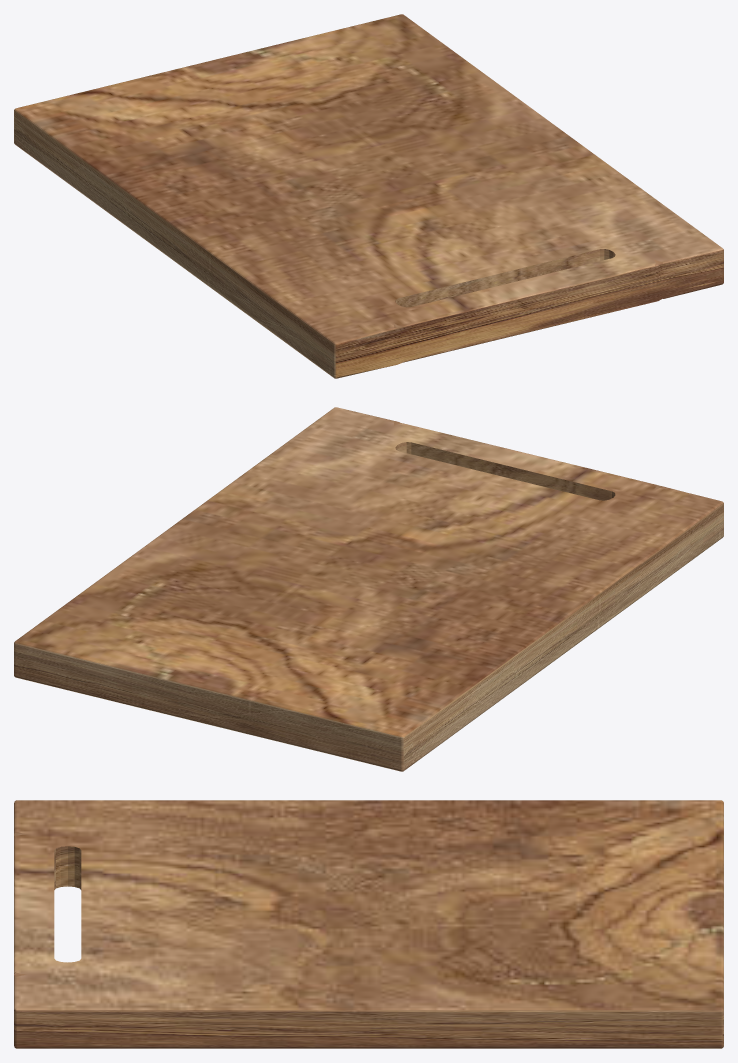
The model's file is cutting_board.fbx.
The picture shows the model from 3 angles, top to bottom: view 1: azimuth 30°, elevation 25°; view 2: azimuth 150°, elevation 25°; view 3: azimuth 270°, elevation 25°; orthographic projection. The views are drawn at different scales.
Parts seen in each view (by area): view 1: Wooden Cutting Board; view 2: Wooden Cutting Board; view 3: Wooden Cutting Board.
Part boxes in pixels (<box>): Wooden Cutting Board: <box>14,14,723,378</box>; Wooden Cutting Board: <box>14,407,723,771</box>; Wooden Cutting Board: <box>14,800,723,1048</box>.
Bounding box in the file's own units: 56 × 5 × 80.01.
1 material, 1 textured.
